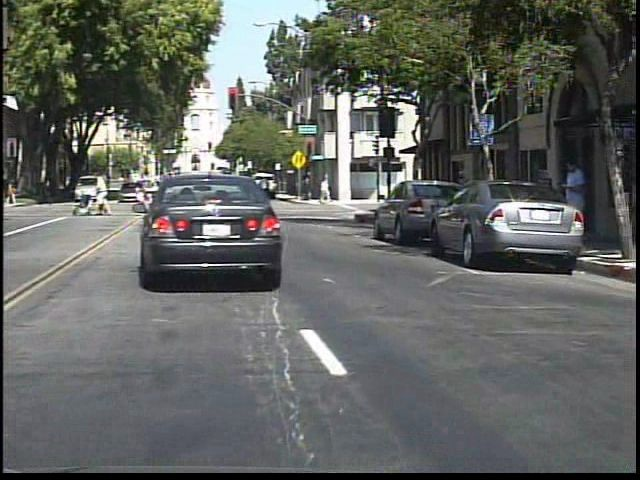person: (562, 152, 593, 258), (99, 171, 121, 218), (10, 174, 28, 209), (72, 174, 73, 206)
